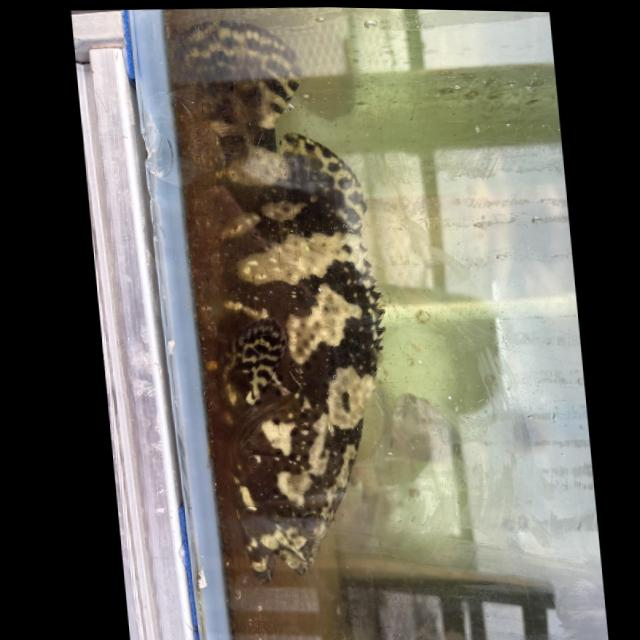Groupers: (160, 18, 411, 592)
